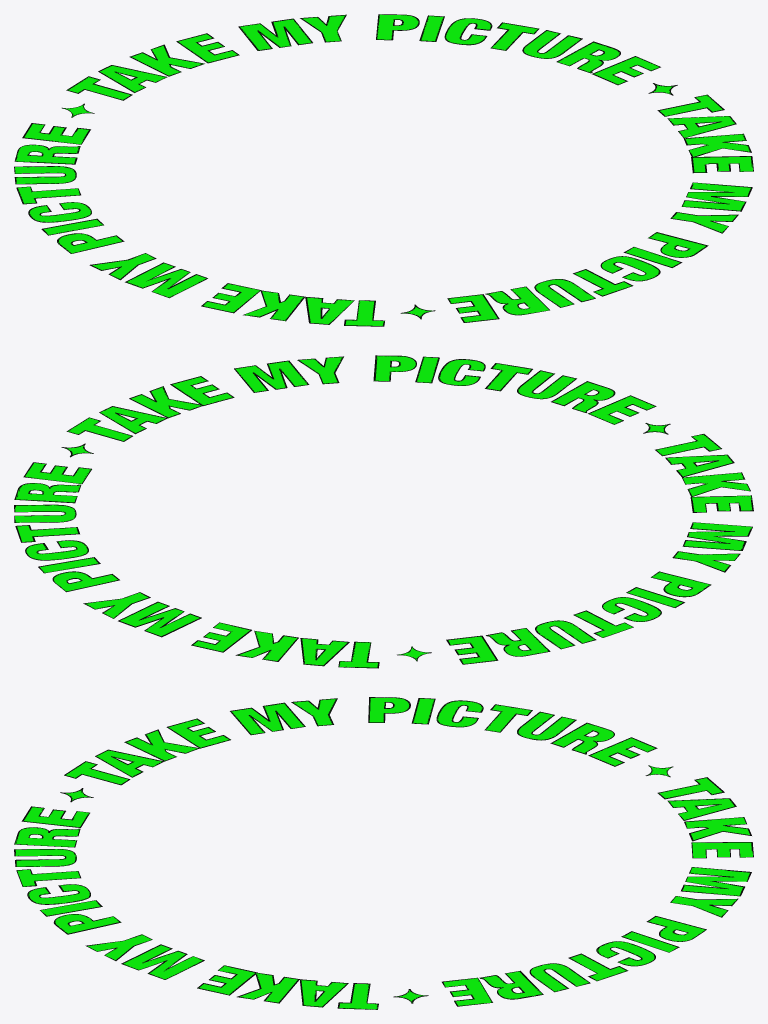
The model's file is 20230713_NAKED_AR1_green-03.glb.
The picture shows the model from 3 angles, top to bottom: view 1: azimuth 30°, elevation 25°; view 2: azimuth 150°, elevation 25°; view 3: azimuth 270°, elevation 25°; orthographic projection.
Parts seen in each view (by area): view 1: Curve; view 2: Curve; view 3: Curve.
Part boxes in pixels (x1,y1,x2,y2): Curve: (14,14,753,326); Curve: (14,355,753,668); Curve: (14,697,753,1009).
Bounding box in the file's own units: 1.35 × 0 × 1.35.
